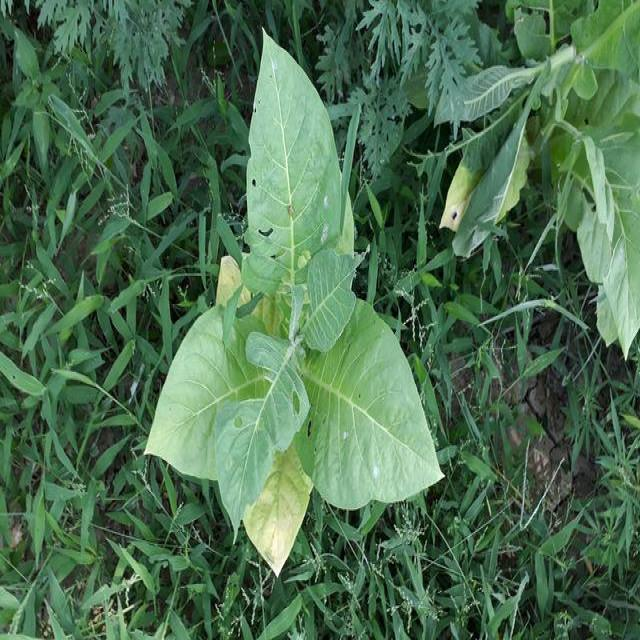crop: (150, 30, 442, 562)
